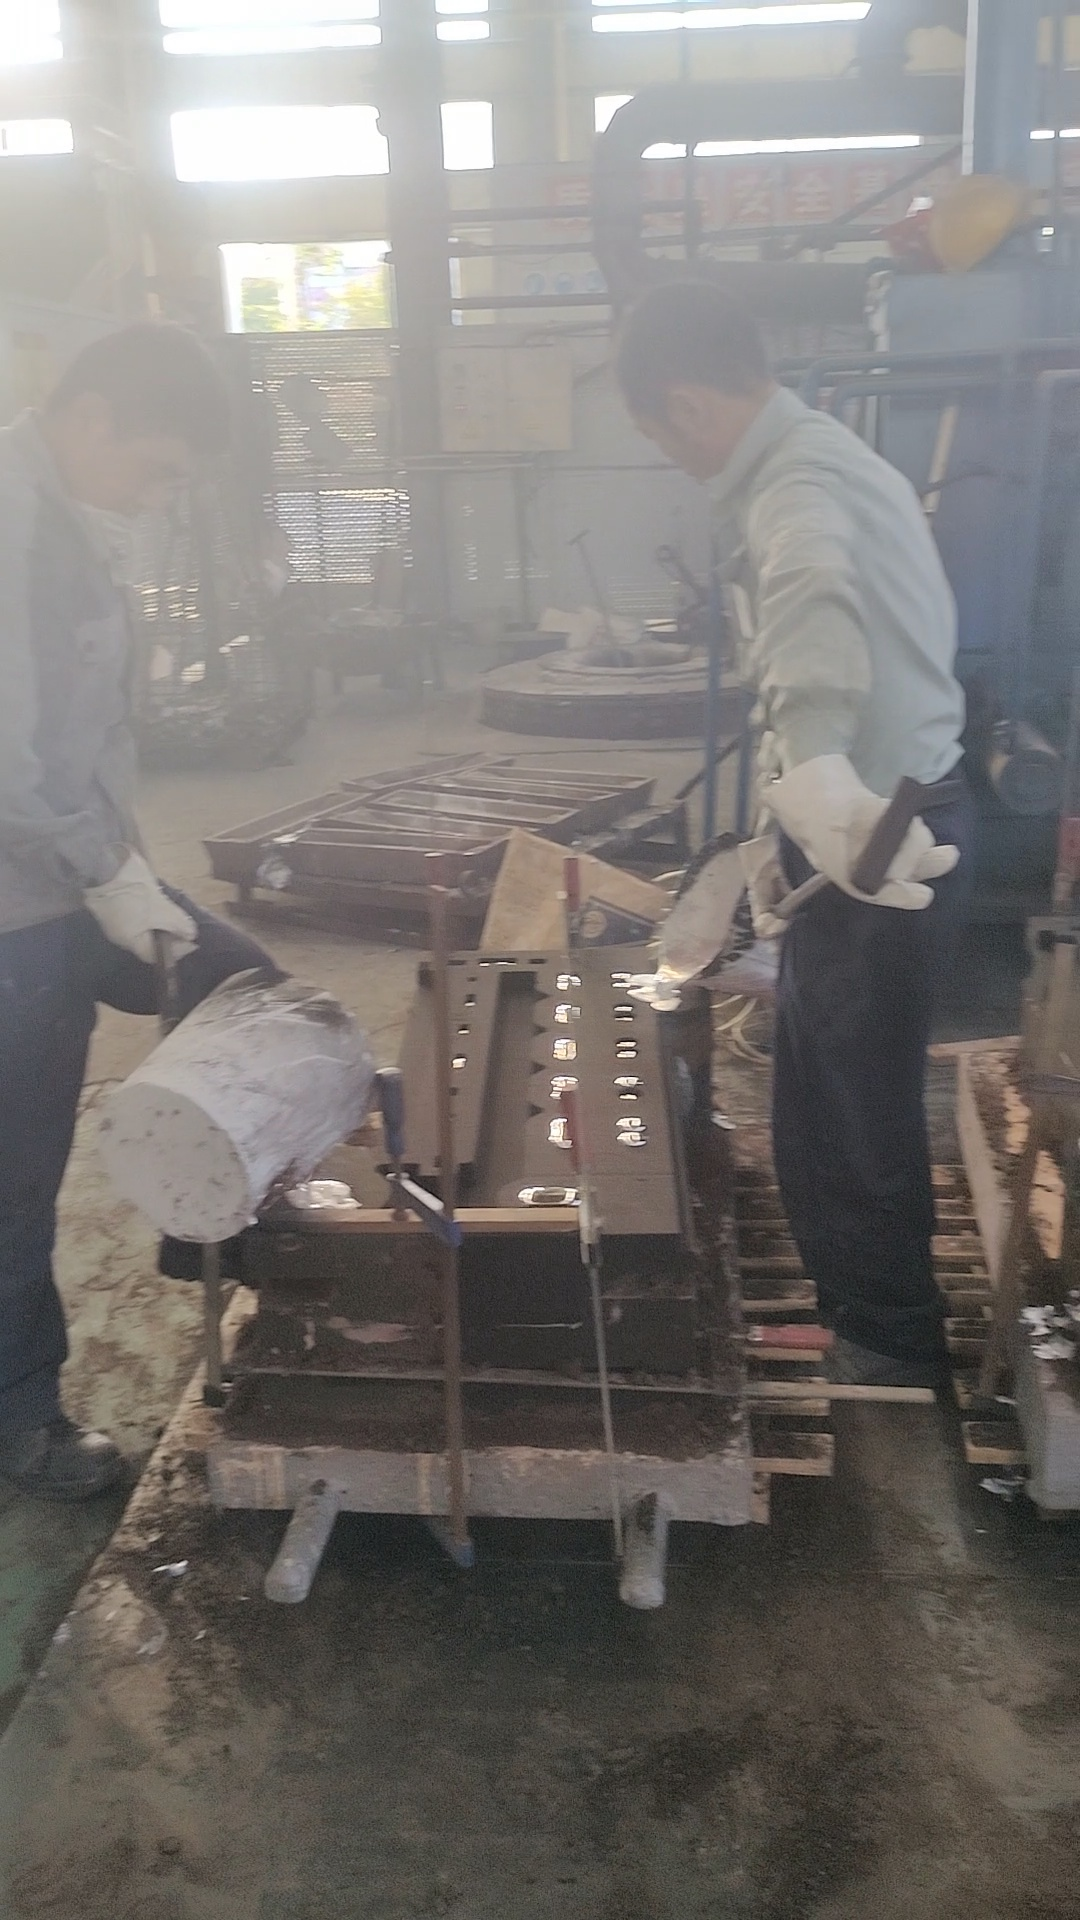pouring hole: (285, 1175, 345, 1215), (632, 980, 682, 1006)
